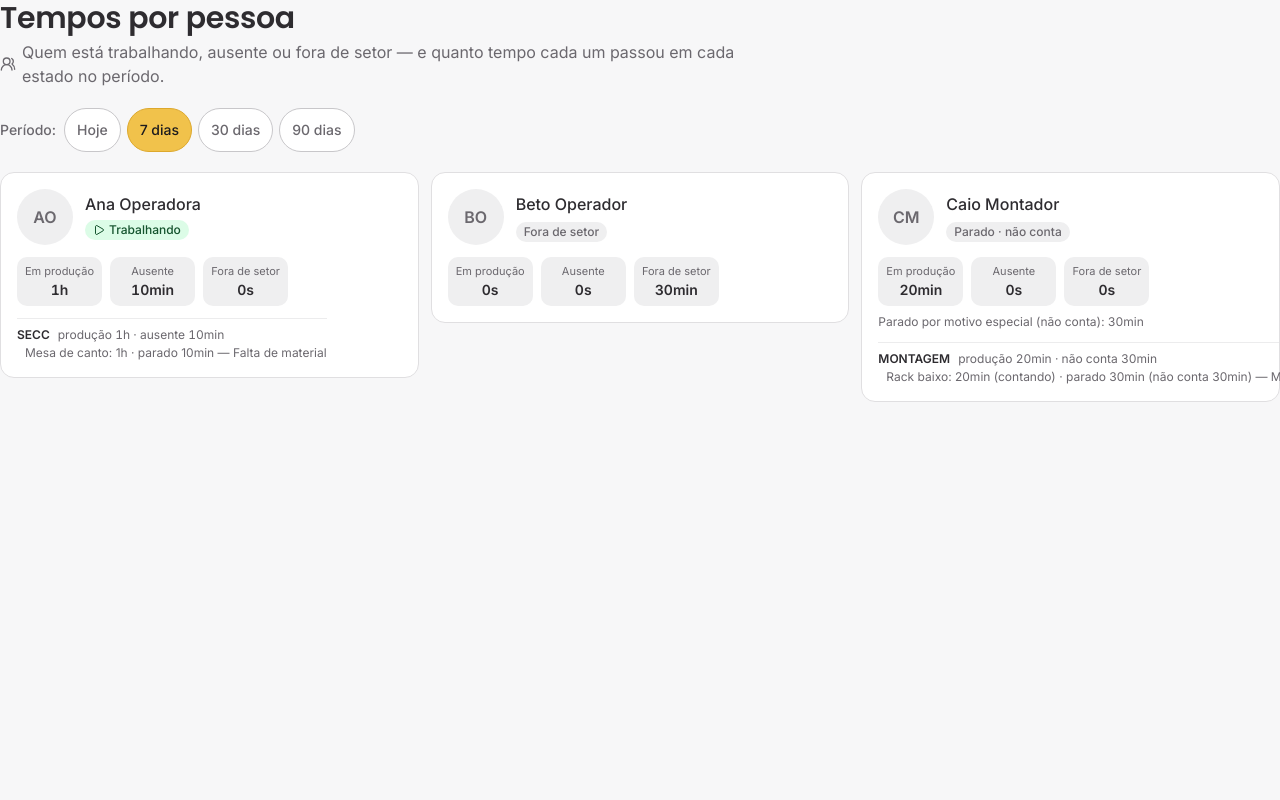
Test case: Dashboards → Tempos por pessoa (SESSAO-36) › o detalhe da pessoa só é pedido no clique (Lei §3)
Click the text "Ana Operadora": (143, 204) [85, 192, 201, 216]
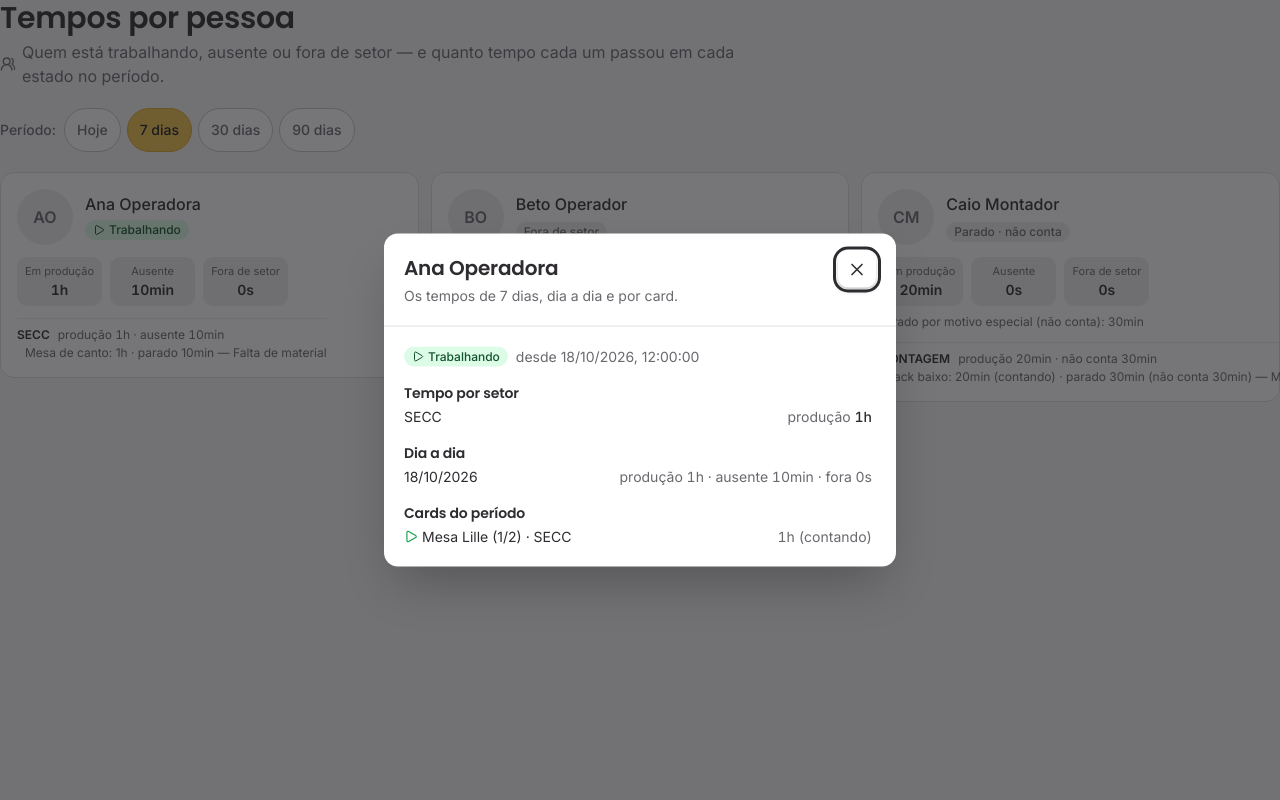
Check: the text "Mesa Lille (1/2) · SECC" is shown, box [422, 526, 572, 546]
Check: the heading "Dia a dia" is shown, box [404, 442, 465, 462]
